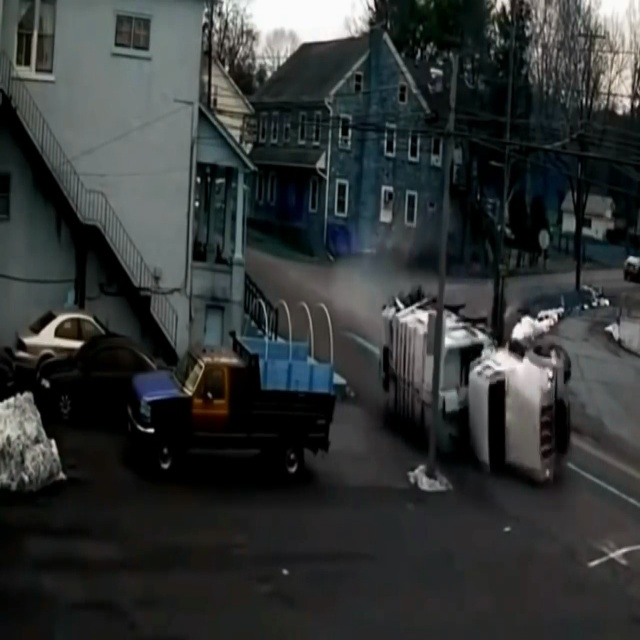acc: (369, 280, 576, 493)
